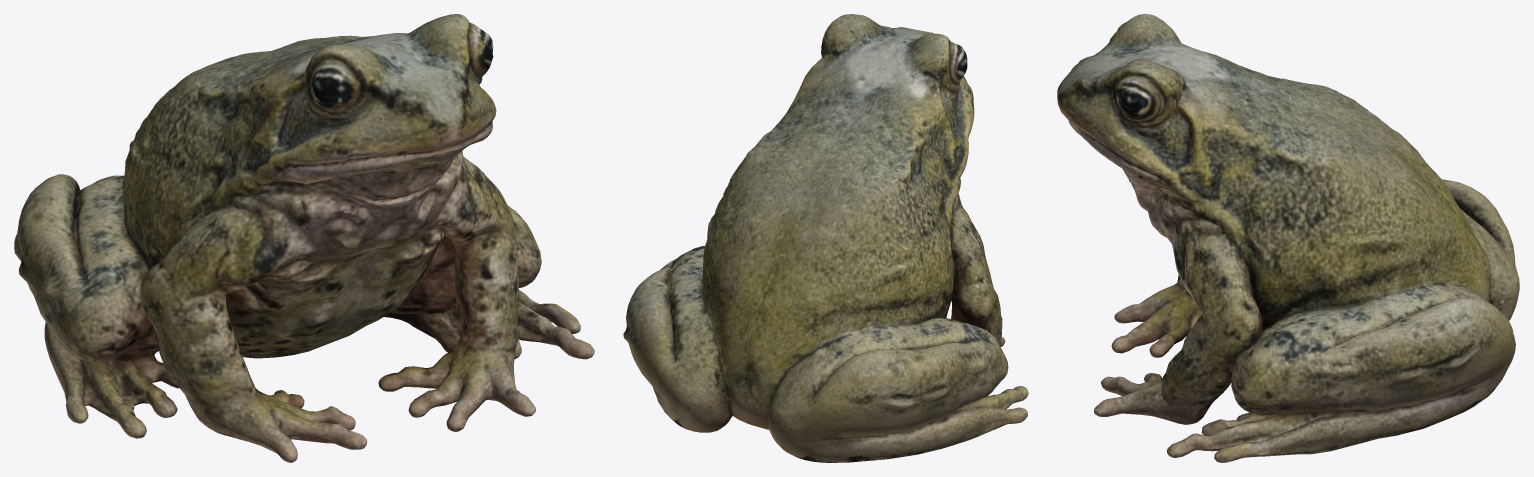
File: green-frog-v21-lod.glb
The picture shows the model from 3 angles, left to right: view 1: azimuth 30°, elevation 25°; view 2: azimuth 150°, elevation 25°; view 3: azimuth 270°, elevation 25°; orthographic projection. The views are drawn at different scales.
Visible parts, largest first — view 1: geometry_0; view 2: geometry_0; view 3: geometry_0.
Part boxes in pixels (left/top/right/bottom): geometry_0: left=14, top=14, right=594, bottom=462; geometry_0: left=623, top=14, right=1028, bottom=462; geometry_0: left=1057, top=14, right=1519, bottom=462.
Size of the model in its own units: 0.1099 by 0.088 by 0.1091.
1 material, 1 textured.
